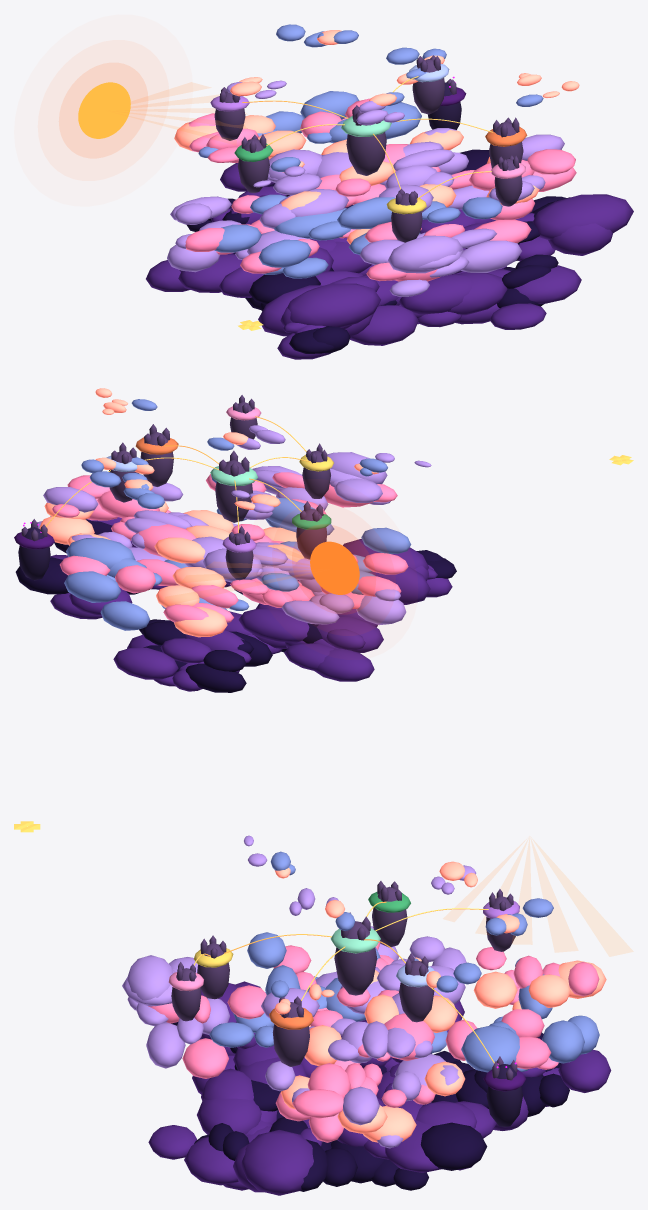
The model's file is aetheria_map.glb.
3 views of the same model, one above another, from view 1: azimuth 30°, elevation 25°; view 2: azimuth 150°, elevation 25°; view 3: azimuth 270°, elevation 25° (orthographic). The views are drawn at different scales.
Visible parts, largest first — view 1: Lower Depth 1 puff 11, Lower Depth 4 puff 9, Eternal Sun, Cloud_Front puff 17, Lower Depth 3 puff 10, Lower Depth 2 puff 5, Lower Depth 3 puff 7, Cloud_Front puff 7, Lower Depth 3 puff 12, Lower Depth 4 puff 8, Aetheria rocky underside, Lower Depth 5 puff 11 (+62 smaller); view 2: Eternal Sun, Lower Depth 5 puff 9, Lower Depth 8 puff 6, Lower Depth 5 puff 7, Cloud_Back puff 1, Cloud_Back puff 20, Lower Depth 8 puff 5, Aetheria rocky underside, Cloud_Back puff 18, Lower Depth 5 puff 11, Cloud_Left puff 12, Lower Depth 1 puff 10 (+53 smaller); view 3: Lower Depth 4 puff 9, Lower Depth 7 puff 7, Cloud_Back puff 20, Lower Depth 3 puff 12, Aetheria rocky underside, Lower Depth 3 puff 7, Lower Depth 8 puff 6, Cloud_Front puff 17, God Ray 5, Cloud_Front puff 19, Cloud_Back puff 1, Lower Depth 7 puff 1 (+47 smaller).
Boxes of the visible parts, x1,y1,x2,y2 form: Lower Depth 1 puff 11: (287,283,380,327); Lower Depth 4 puff 9: (532,194,633,239); Eternal Sun: (78,82,130,138); Cloud_Front puff 17: (388,235,462,273); Lower Depth 3 puff 10: (399,274,471,314); Lower Depth 2 puff 5: (350,305,418,345); Lower Depth 3 puff 7: (514,265,581,303); Cloud_Front puff 7: (461,240,521,272); Lower Depth 3 puff 12: (448,272,507,315); Lower Depth 4 puff 8: (548,223,612,255); Aetheria rocky underside: (346,113,386,175); Lower Depth 5 puff 11: (178,254,242,292); Eternal Sun: (310,541,359,594); Lower Depth 5 puff 9: (238,608,309,642); Lower Depth 8 puff 6: (113,647,178,679); Lower Depth 5 puff 7: (314,648,374,681); Cloud_Back puff 1: (64,571,120,602); Cloud_Back puff 20: (66,538,135,568); Lower Depth 8 puff 5: (185,663,246,692); Aetheria rocky underside: (215,460,252,522); Cloud_Back puff 18: (100,601,149,630); Lower Depth 5 puff 11: (317,616,383,652); Cloud_Left puff 12: (356,595,406,625); Lower Depth 1 puff 10: (369,567,430,604); Lower Depth 4 puff 9: (241,1130,313,1195); Lower Depth 7 puff 7: (420,1122,487,1170); Cloud_Back puff 20: (461,1025,519,1072); Lower Depth 3 puff 12: (197,1098,261,1134); Aetheria rocky underside: (334,921,377,995); Lower Depth 3 puff 7: (184,1137,238,1185); Lower Depth 8 puff 6: (558,1049,611,1092); Cloud_Front puff 17: (127,955,173,1006); God Ray 5: (534,841,632,955); Cloud_Front puff 19: (182,1038,228,1078); Cloud_Back puff 1: (542,1020,584,1063); Lower Depth 7 puff 1: (385,1120,441,1172).
Bounding box in the file's own units: 190 × 96.98 × 183.
